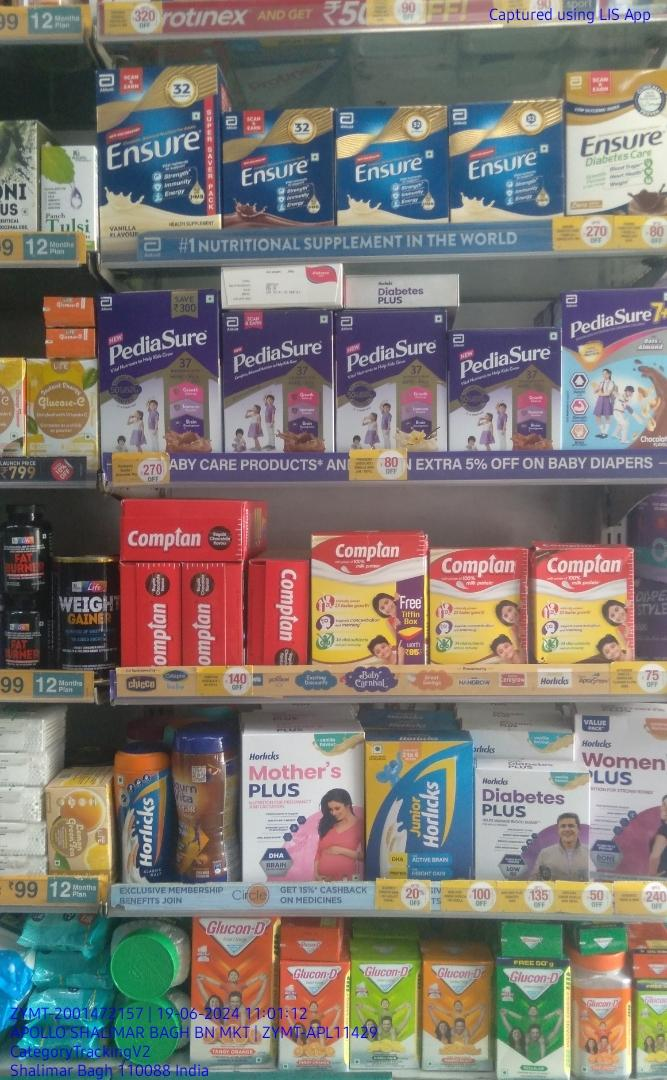BOURN_VITA_FIVE_STAR_MAGIC_500_G_JAR: (175, 730, 237, 882)
COMPLAN_KESAR_BADAM_200_GMS_PACK: (430, 552, 526, 663)
HORLICK_CLASSIC_MALT_200_G_JAR: (114, 757, 168, 883)
PEDIASURE_7_PLUS_CHOCOLATE_400_G_PACK: (565, 292, 667, 447)
PEDIASURE_VANILLA_500_G_PACK: (336, 312, 447, 451)
